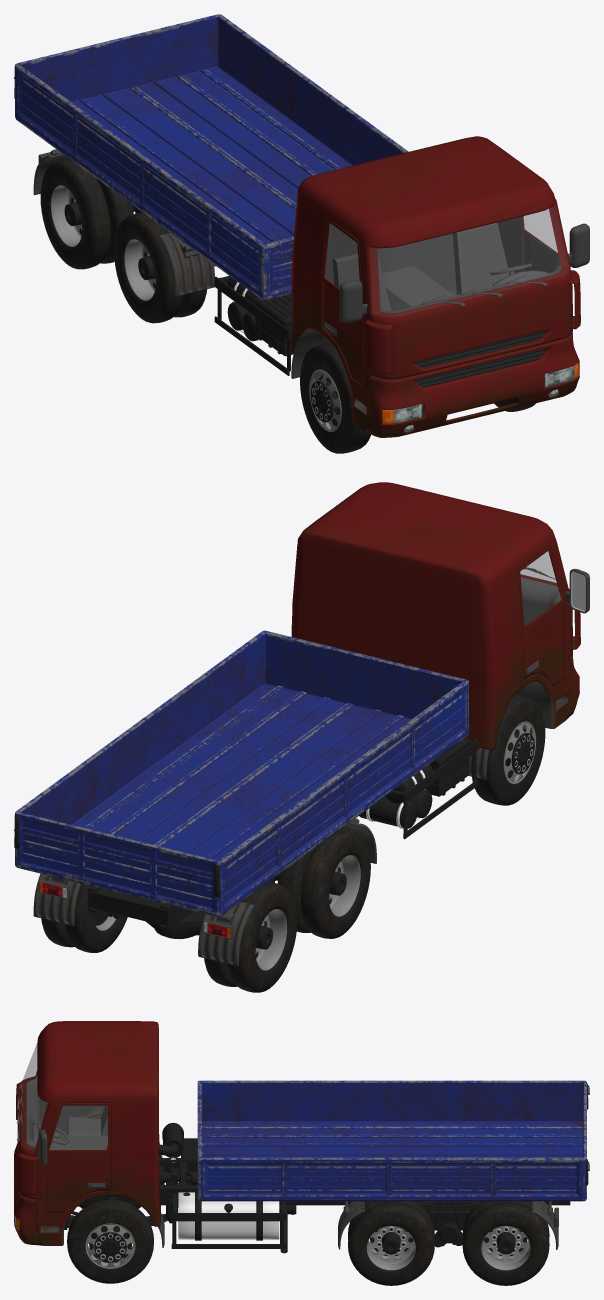
3 renders of one model, top to bottom at view 1: azimuth 30°, elevation 25°; view 2: azimuth 150°, elevation 25°; view 3: azimuth 270°, elevation 25°, orthographic. The views are drawn at different scales.
Visible parts, largest first — view 1: Cube.016_69, Cube.012_65, Cube.015_62, Cube.023_59, Wheel.001_29, Cube.025_60, Wheel.002_30, Cube.018_64, Cube.022_66, Cube.013_63, Cube.006_5, Cube.019_33 (+5 smaller); view 2: Cube.016_69, Cube.012_65, Wheel.001_29, Cube.018_64, Wheel.002_30, Cube.022_66, Cube.006_5, Cube.015_62, Cylinder.016_52, Cube.004_4, Cube.023_59, Cube.002_56 (+4 smaller); view 3: Cube.016_69, Cube.012_65, Wheel.001_29, Wheel.002_30, Cube.015_62, Cube.022_66, Tank_28, Cube.023_59, Cube.006_5, Cube_1, Cube.018_64, Cube.025_60 (+8 smaller).
Part boxes in pixels (x1,y1,x2,y2): Cube.016_69: (15,14,408,300); Cube.012_65: (290,136,580,431); Cube.015_62: (326,204,568,316); Cube.023_59: (325,216,560,312); Wheel.001_29: (40,159,207,323); Cube.025_60: (365,333,579,437); Wheel.002_30: (300,342,535,453); Cube.018_64: (33,149,307,378); Cube.022_66: (322,216,558,386); Cube.013_63: (339,223,589,322); Cube.006_5: (214,276,291,375); Cube.019_33: (413,347,547,387); Cube.016_69: (15,630,468,916); Cube.012_65: (291,482,580,750); Wheel.001_29: (41,828,370,992); Cube.018_64: (33,748,489,966); Wheel.002_30: (472,694,545,805); Cube.022_66: (518,546,564,686); Cube.006_5: (386,738,478,839); Cube.015_62: (520,551,560,625); Cylinder.016_52: (359,764,433,828); Cube.004_4: (89,888,166,926); Cube.023_59: (520,564,561,625); Cube.002_56: (425,738,469,796); Cube.016_69: (197,1080,586,1201); Cube.012_65: (16,1021,160,1245); Wheel.001_29: (348,1201,549,1285); Wheel.002_30: (67,1199,153,1283); Cube.015_62: (21,1042,107,1150); Cube.022_66: (46,1102,110,1212); Tank_28: (178,1188,279,1240); Cube.023_59: (26,1073,159,1157); Cube.006_5: (171,1194,286,1248); Cube_1: (82,1158,570,1205); Cube.018_64: (158,1155,558,1249); Cube.025_60: (14,1143,42,1245).
Bounding box in the file's own units: 3.02 × 2.92 × 7.79.
13 materials, 7 textured.
